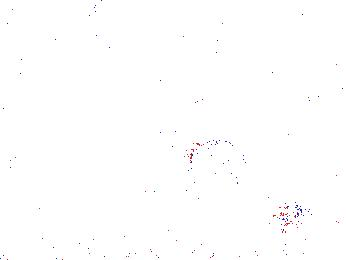flame jellyfish: (272, 172, 346, 227), (188, 139, 248, 192), (181, 163, 236, 215)
